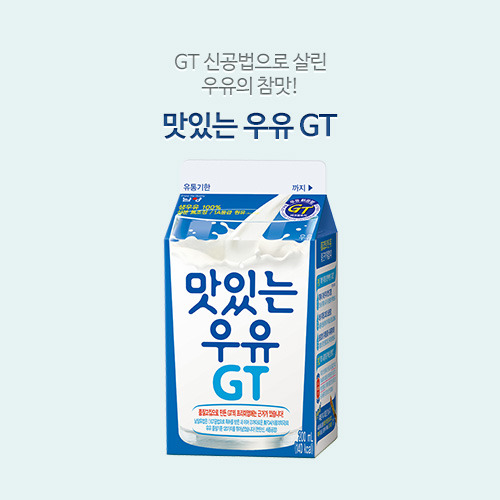milk: (164, 158, 339, 459)
